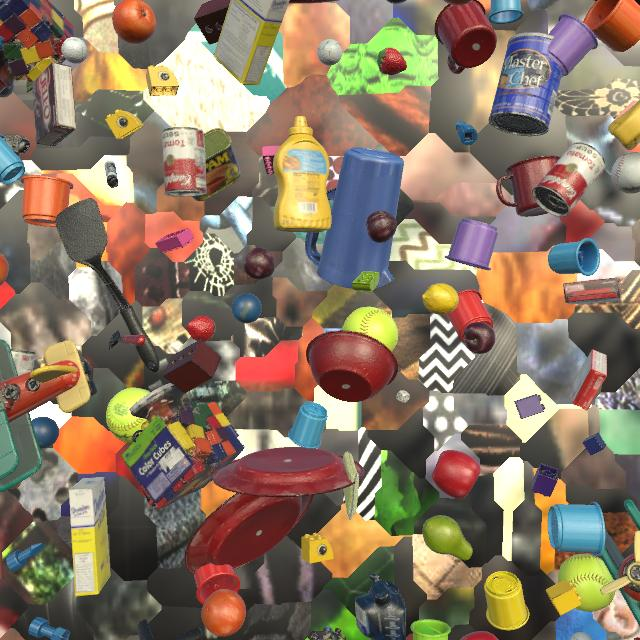ycb_002_master_chef_can: (489, 32, 562, 136)
ycb_004_sugar_box: (213, 0, 290, 85), (69, 477, 111, 596)
ycb_005_tomato_soup_can: (532, 142, 605, 217), (162, 127, 207, 197), (10, 349, 35, 376)
ycb_006_mustard_bottle: (273, 116, 331, 232), (608, 100, 640, 150)
ycb_008_pudding_box: (32, 62, 77, 146), (563, 277, 621, 304)
ycb_009_gelatin_box: (572, 349, 607, 410)
ycb_010_potted_meat_can: (192, 128, 241, 201)
ycb_011_banana: (11, 482, 21, 489)
ycb_012_strawberry: (377, 47, 407, 75), (186, 316, 216, 342)
ycb_013_apple: (431, 450, 480, 499), (460, 631, 498, 640)
ycb_014_lemon: (422, 283, 459, 315)
ycb_016_pear: (423, 515, 473, 560)
ycb_017_orange: (201, 589, 246, 637), (112, 0, 156, 44), (0, 253, 9, 286), (443, 0, 472, 5)
ycb_018_plum: (243, 247, 275, 280), (366, 210, 397, 243), (464, 322, 495, 354), (387, 0, 407, 4)
